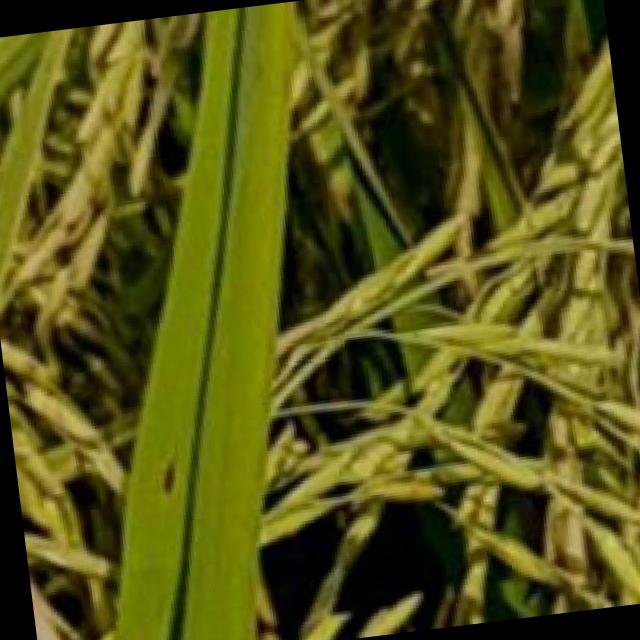Rice_Brownspot: (143, 447, 186, 499)
